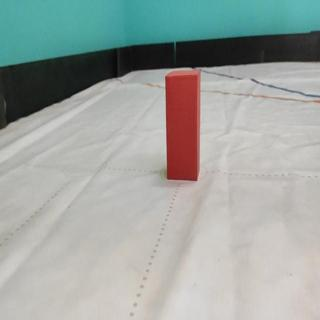redbox: (164, 69, 201, 181)
